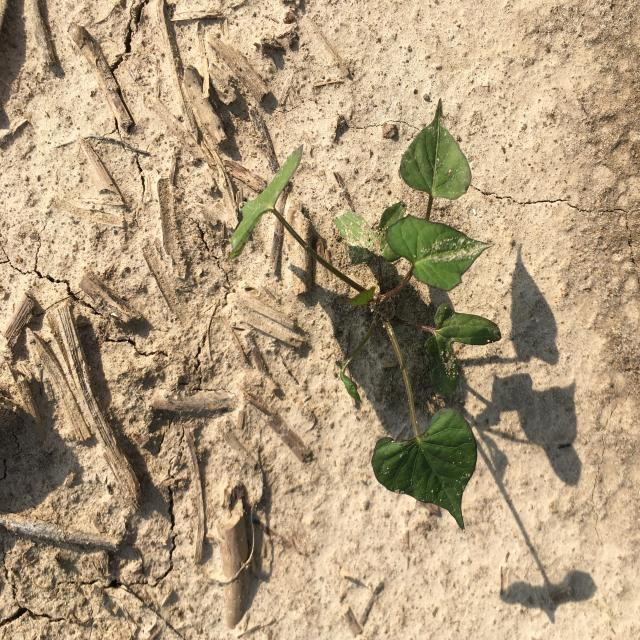MorningGlory: (227, 98, 502, 533)
